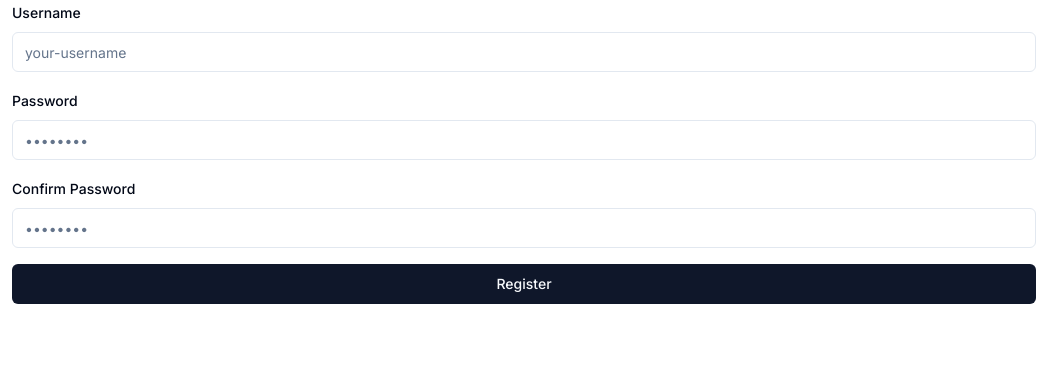
Test case: RegisterForm › does not submit when passwords do not match
This screenshot has width=1048, height=387.
Type "newuser" into the field labelled "Username" at (524, 52), box [12,32,1036,72]
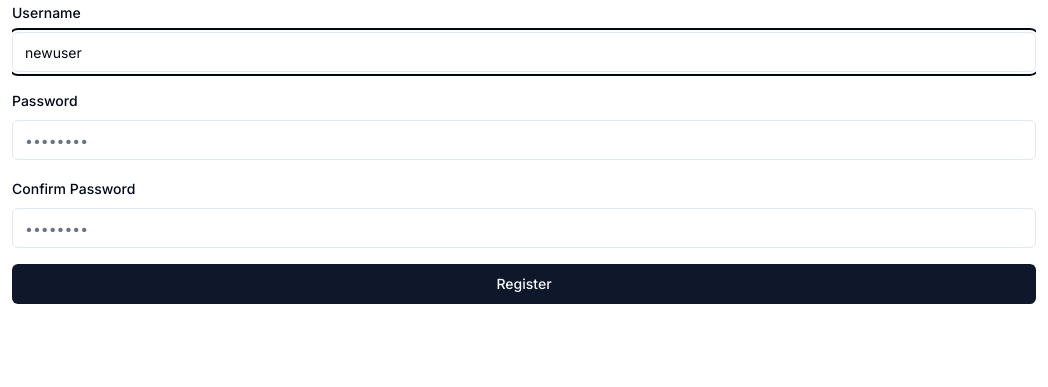
Type "password123" into the password field labelled "Password" at (524, 140), box [12,120,1036,160]
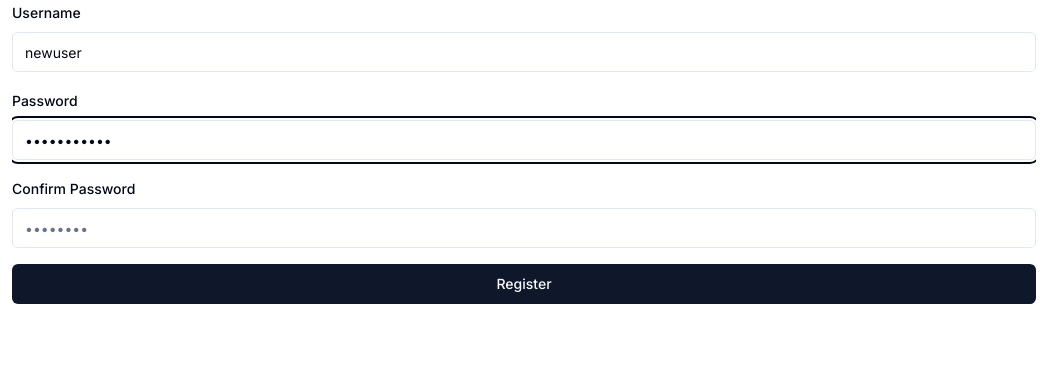
Type "differentpassword" into the password field labelled "Confirm Password" at (524, 228), box [12,208,1036,248]
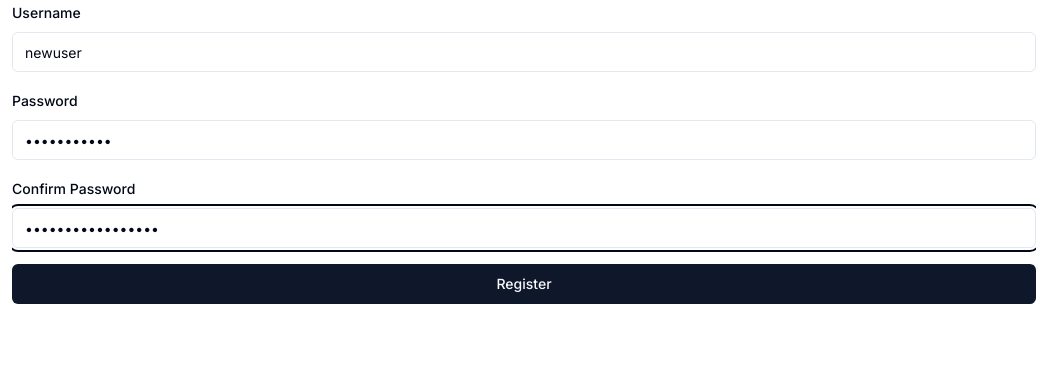
Click the button "Register" at (524, 284), box [12,264,1036,304]
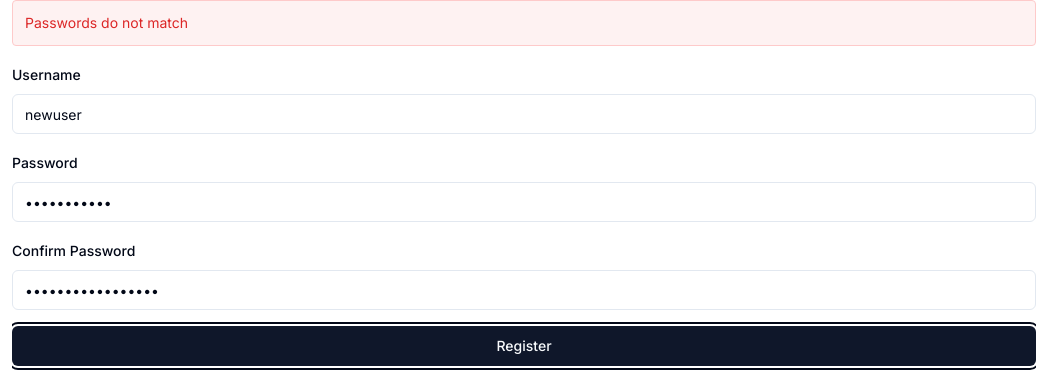
Now the text "Passwords do not match" is shown, box [12,0,1036,46]
